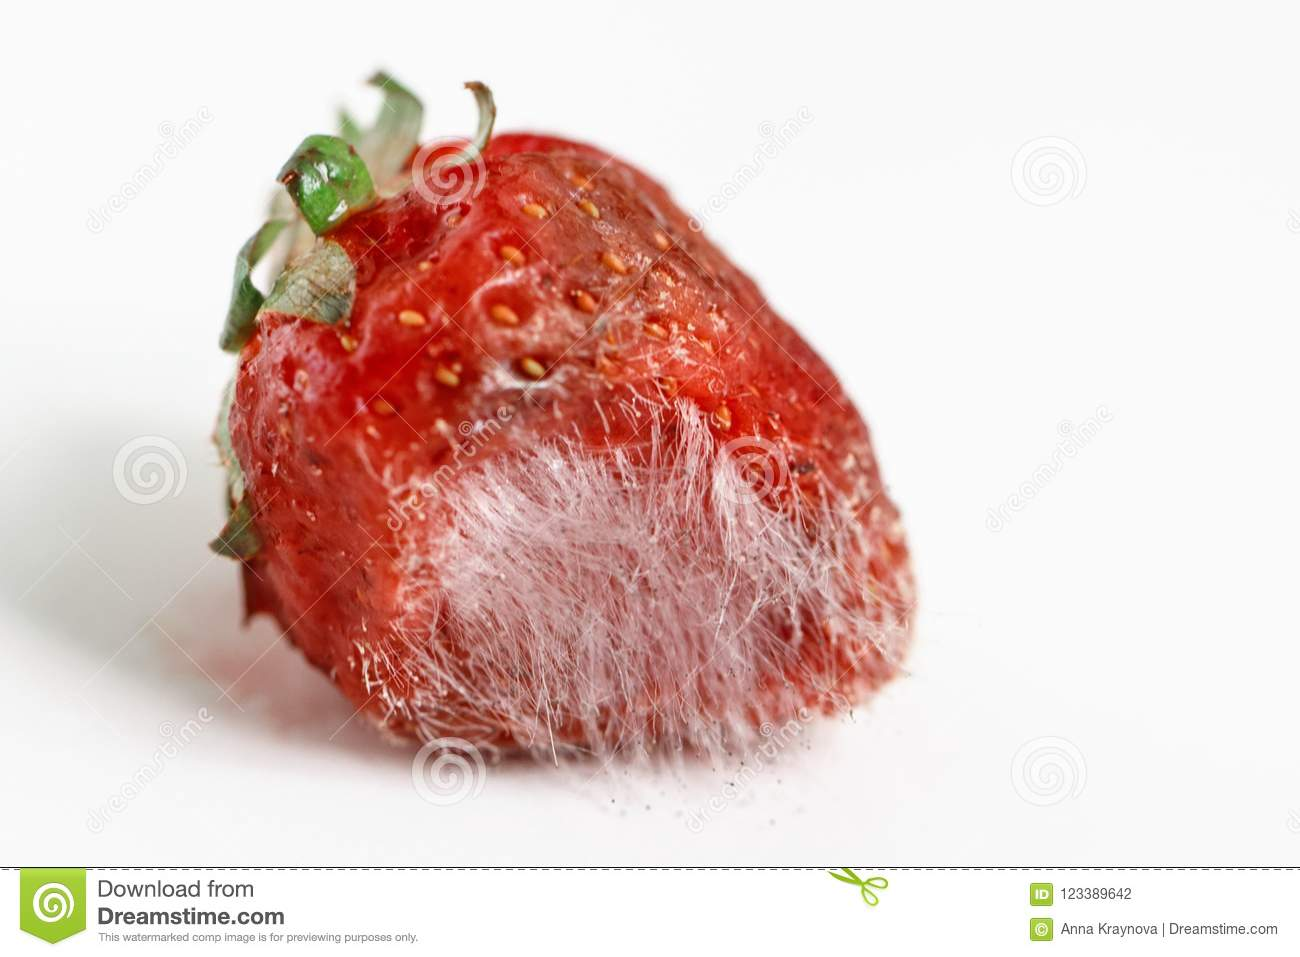damaged_strawberry: (249, 148, 897, 768)
